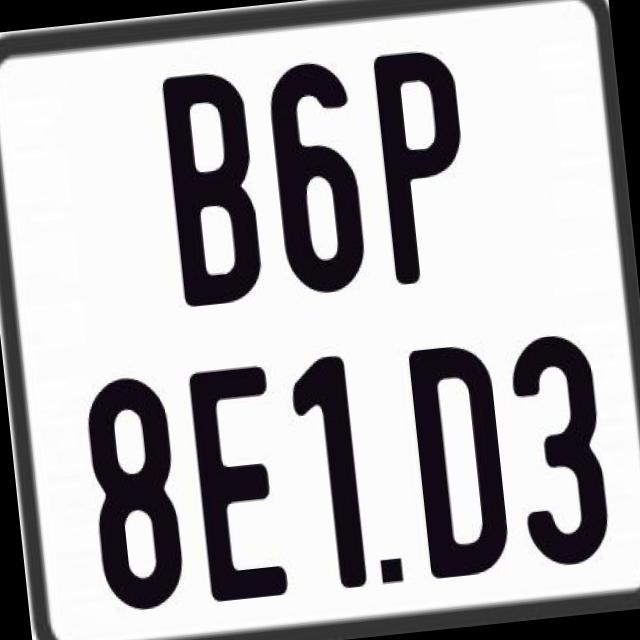1: (286, 350, 366, 594)
3: (504, 332, 614, 578)
6: (260, 54, 368, 294)
8: (82, 372, 196, 620)
B: (162, 66, 266, 308)
D: (406, 338, 512, 577)
E: (184, 360, 286, 606)
P: (372, 45, 480, 286)
